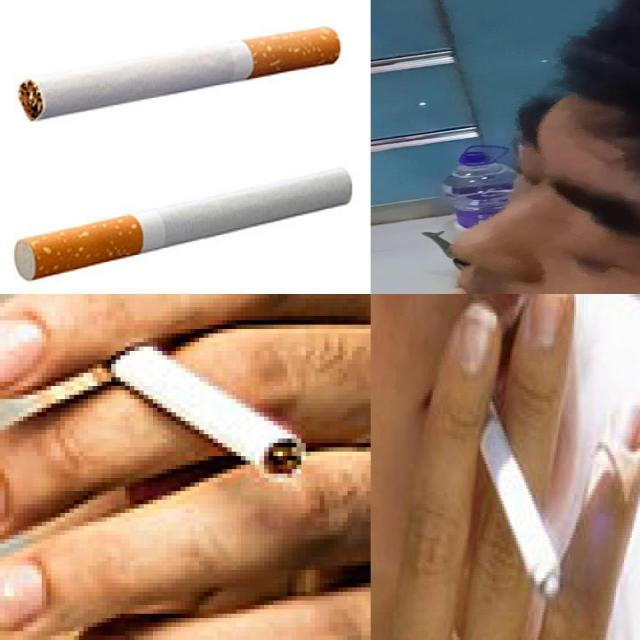cigarette: (12, 165, 351, 280), (82, 323, 307, 484), (18, 26, 340, 120), (467, 374, 561, 596)
